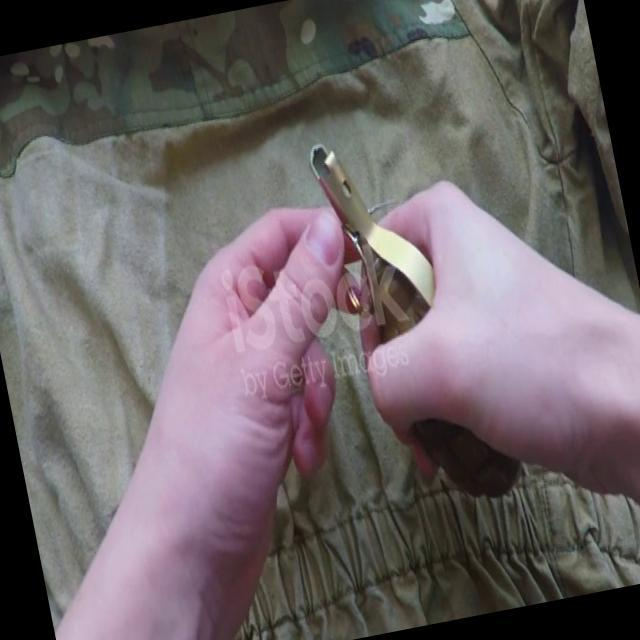grenade: (305, 116, 533, 525)
